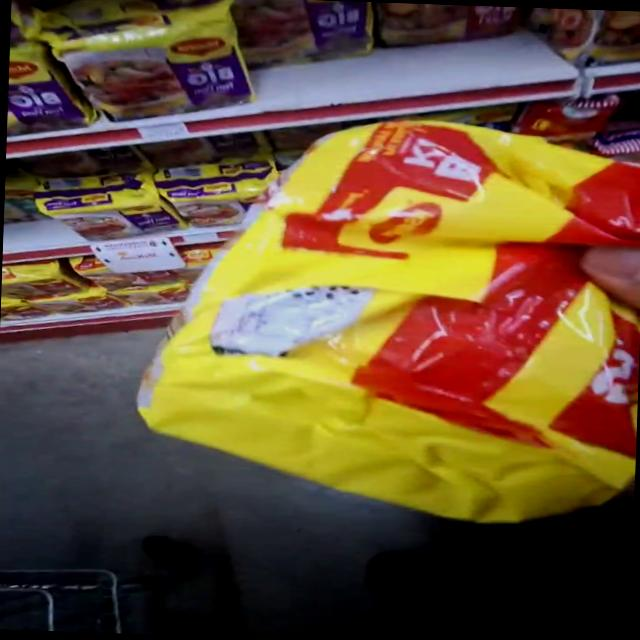Maggi: (132, 127, 640, 509)
